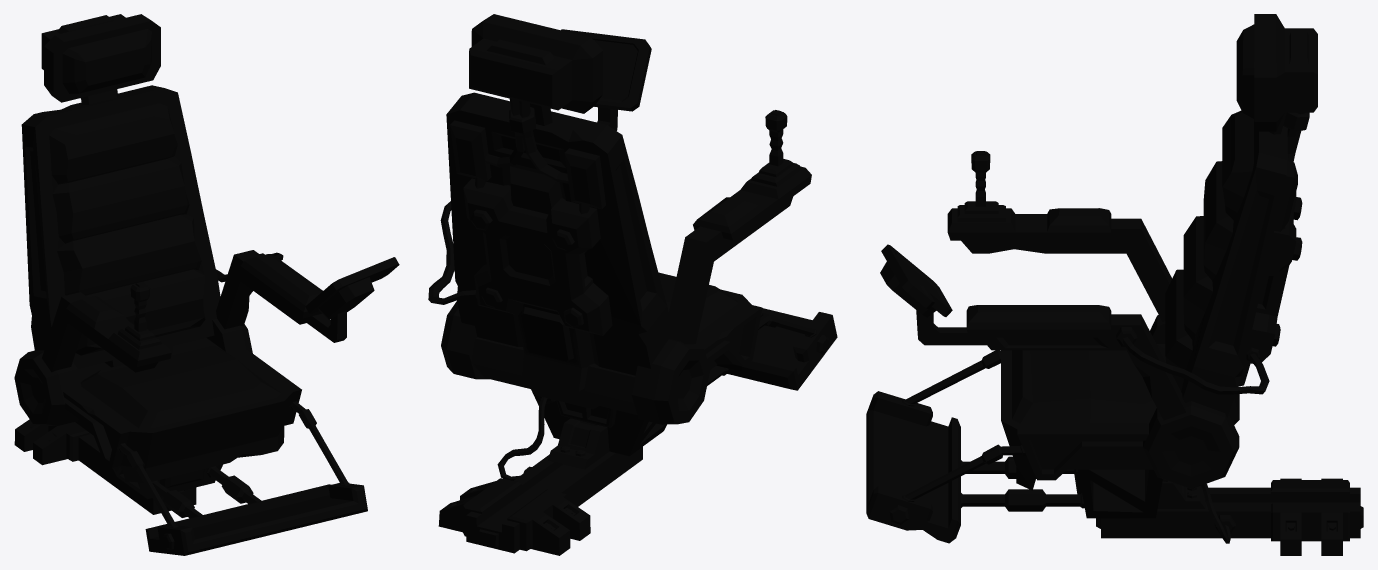
The model's file is cyber_SM_Prop_Computer_Chair_01.gltf.
3 renders of one model, left to right at view 1: azimuth 30°, elevation 25°; view 2: azimuth 150°, elevation 25°; view 3: azimuth 270°, elevation 25°, orthographic. The views are drawn at different scales.
Visible parts, largest first — view 1: SM_Prop_Computer_Chair_01; view 2: SM_Prop_Computer_Chair_01; view 3: SM_Prop_Computer_Chair_01.
Part boxes in pixels (x1=…): SM_Prop_Computer_Chair_01: x1=14, y1=14, x2=399, y2=555; SM_Prop_Computer_Chair_01: x1=428, y1=14, x2=837, y2=555; SM_Prop_Computer_Chair_01: x1=866, y1=14, x2=1363, y2=555.
Size of the model in its own units: 0.8779 by 1.47 by 1.36.
Materials: 1 (1 with a texture image).
